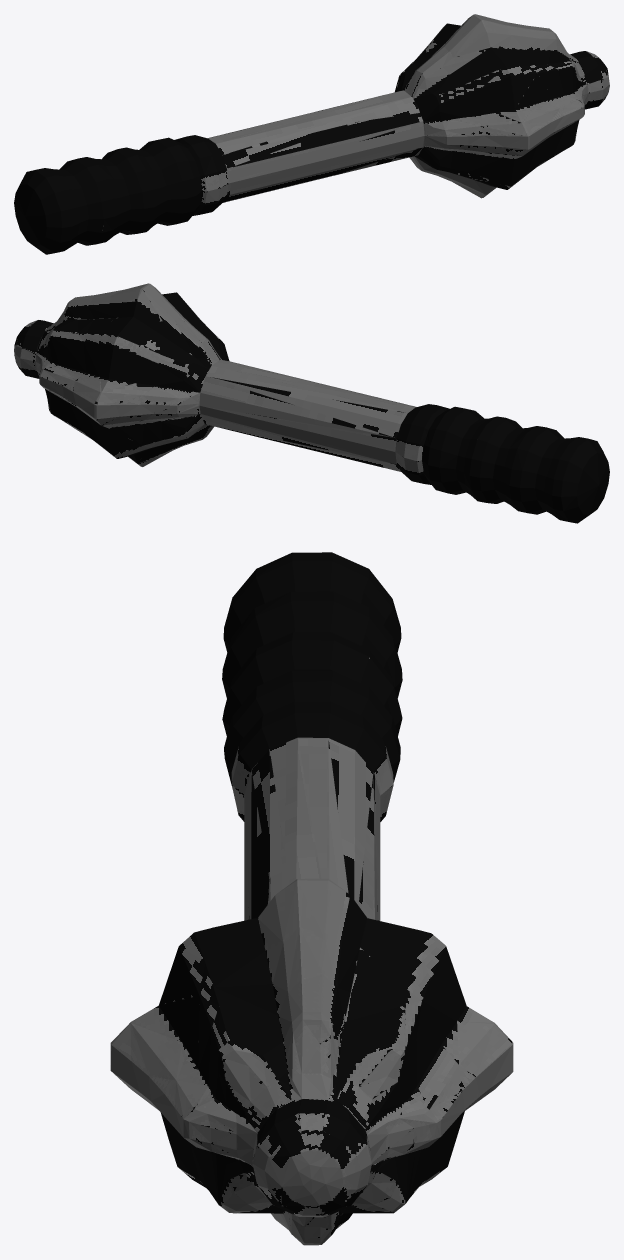
3 renders of one model, top to bottom at view 1: azimuth 30°, elevation 25°; view 2: azimuth 150°, elevation 25°; view 3: azimuth 270°, elevation 25°, orthographic. The views are drawn at different scales.
Parts seen in each view (by area): view 1: OBJ008; view 2: OBJ008; view 3: OBJ008.
Boxes of the visible parts, x1,y1,x2,y2 form: OBJ008: (14, 14, 609, 254); OBJ008: (14, 283, 609, 523); OBJ008: (110, 552, 513, 1245).
Bounding box in the file's own units: 0.4303 × 0.1261 × 0.1293.
Materials: 1 (1 with a texture image).
